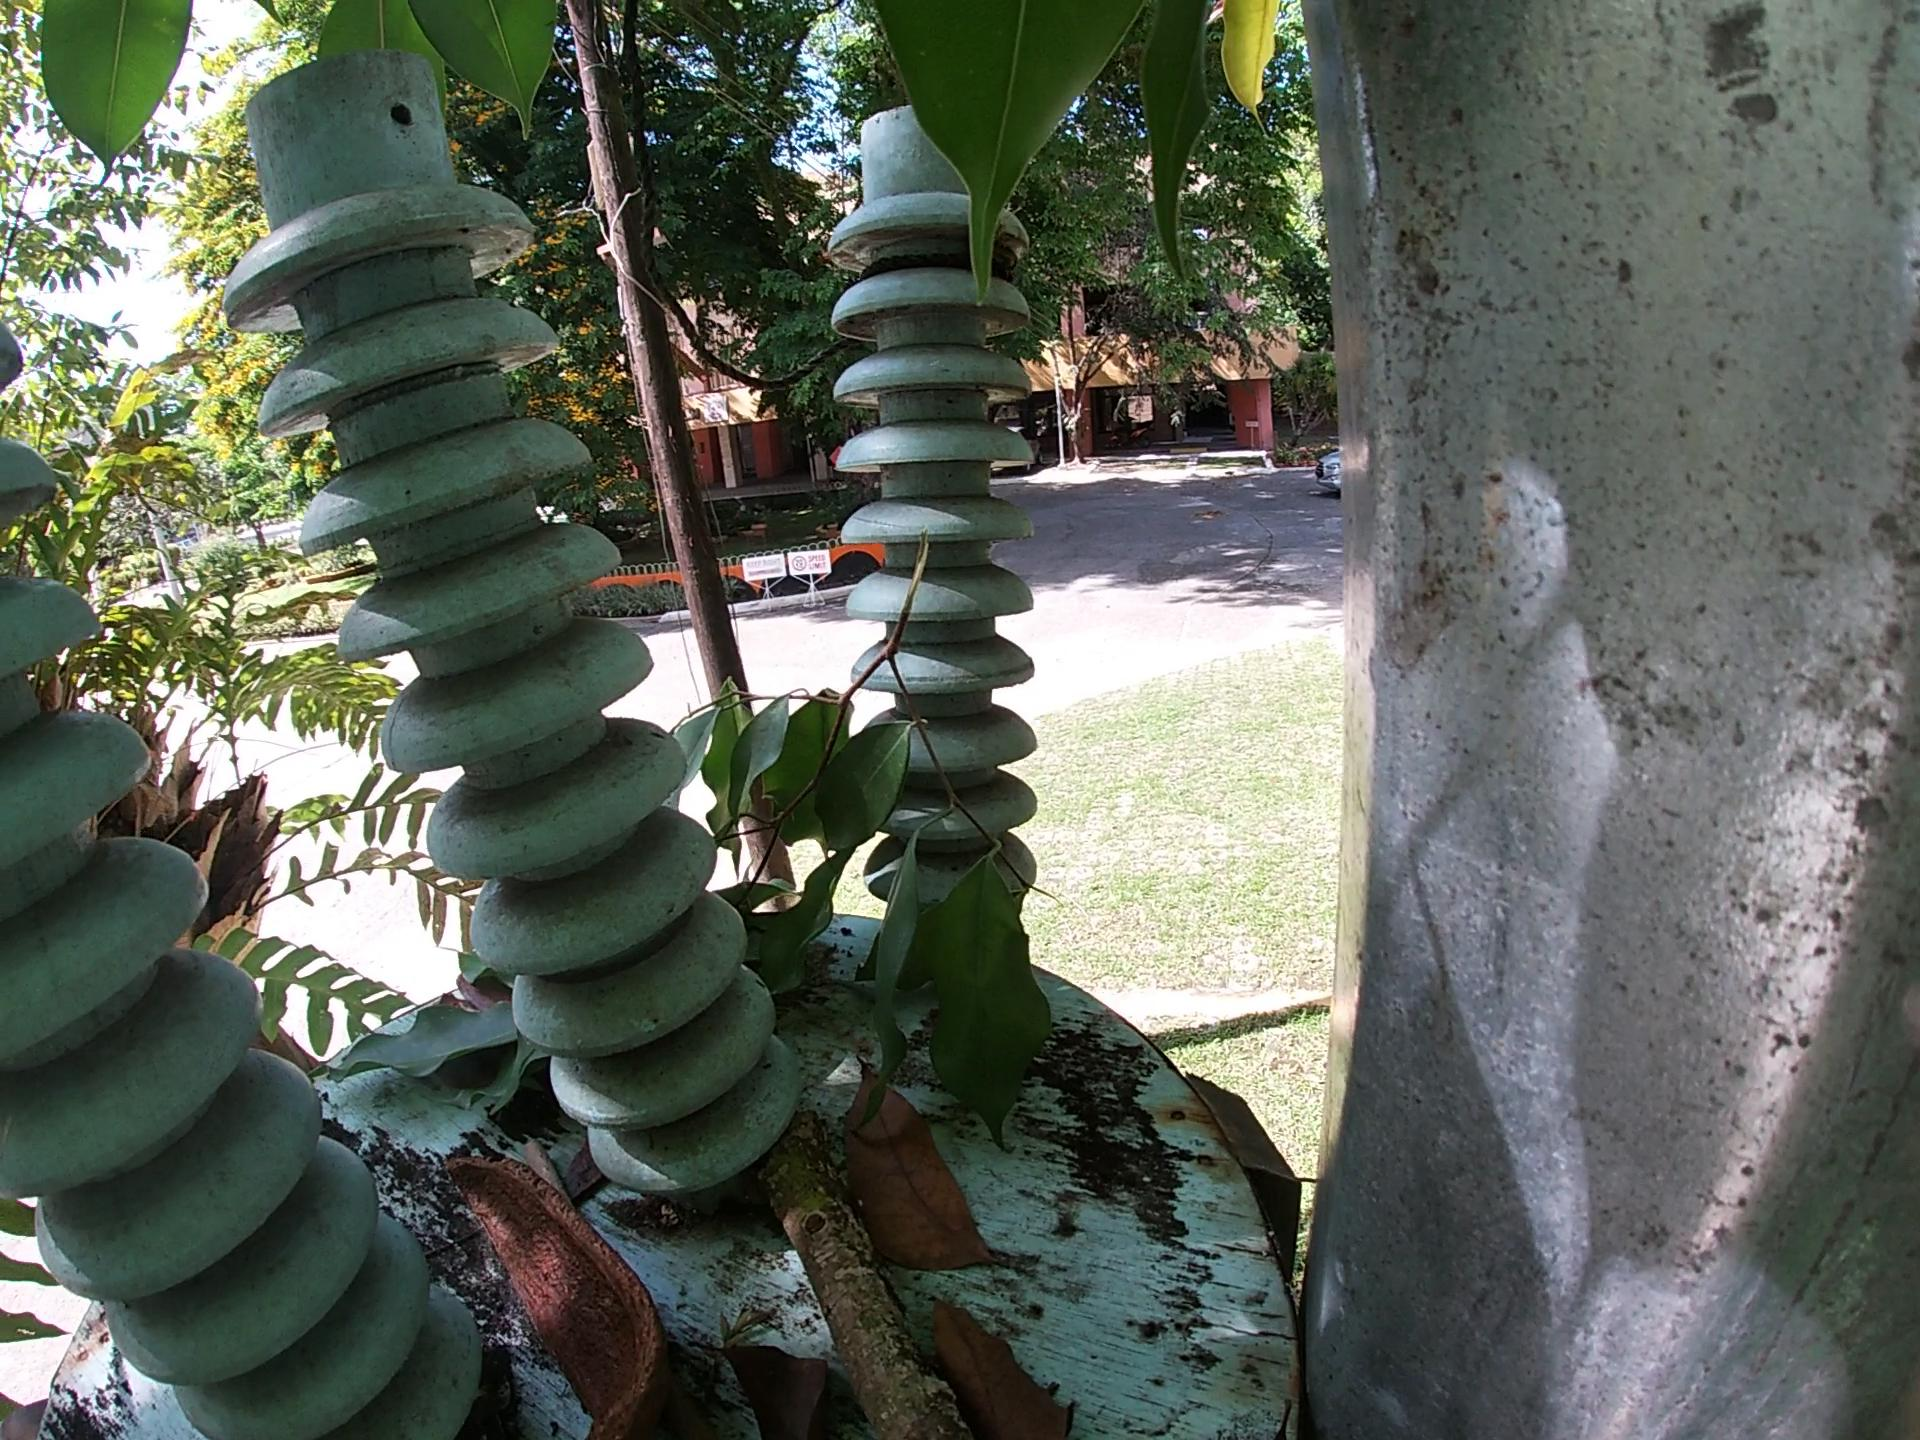branch with leaves: (685, 514, 1061, 1163)
leaf: (330, 945, 568, 1150), (838, 1060, 1030, 1289), (918, 1295, 1095, 1440), (692, 1314, 856, 1440)
mahogany fruit: (440, 1142, 671, 1426), (426, 964, 517, 1035)
tree branch: (754, 1106, 962, 1440), (497, 1128, 574, 1209)
